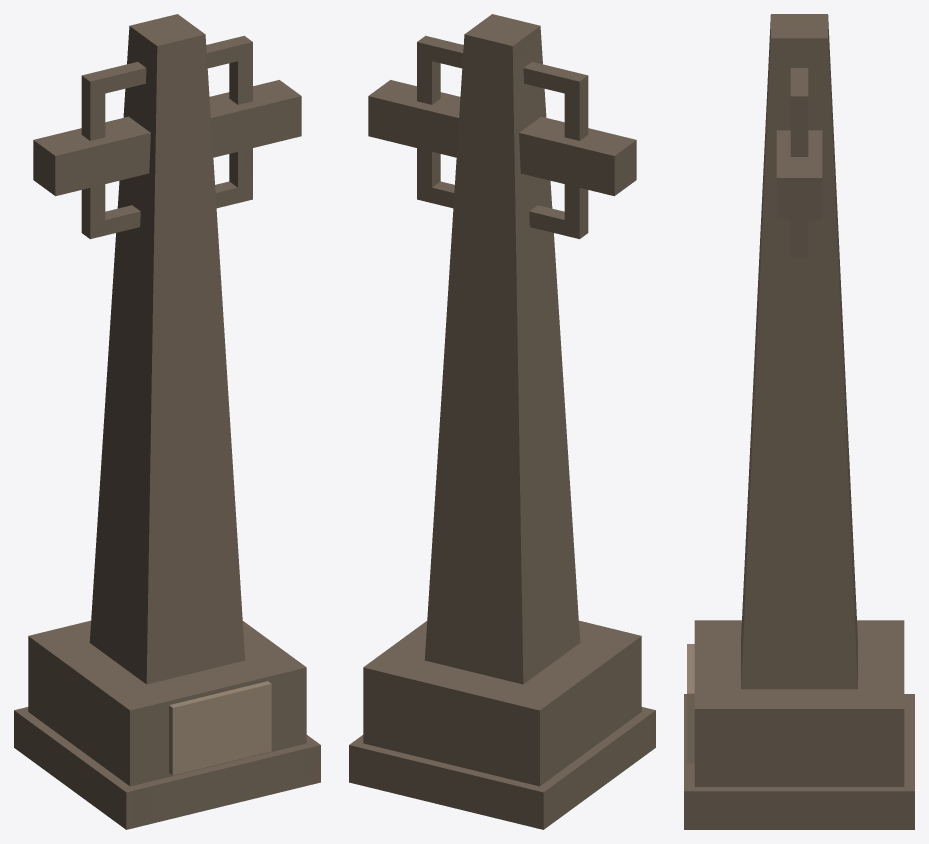
Rendered from kit-grave-cross.glb.
The picture shows the model from 3 angles, left to right: view 1: azimuth 30°, elevation 25°; view 2: azimuth 150°, elevation 25°; view 3: azimuth 270°, elevation 25°; orthographic projection. The views are drawn at different scales.
Parts seen in each view (by area): view 1: Cube.300; view 2: Cube.300; view 3: Cube.300.
Part boxes in pixels (x1,y1,x2,y2): Cube.300: [14, 14, 320, 829]; Cube.300: [349, 14, 655, 829]; Cube.300: [684, 14, 914, 829].
Bounding box in the file's own units: 0.6121 × 1.75 × 0.4837.
1 material, 1 textured.
